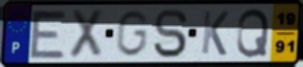E: (28, 8, 69, 60)
G: (113, 9, 151, 59)
K: (199, 9, 231, 58)
Q: (235, 7, 271, 59)
S: (151, 8, 190, 60)
X: (67, 8, 106, 60)
